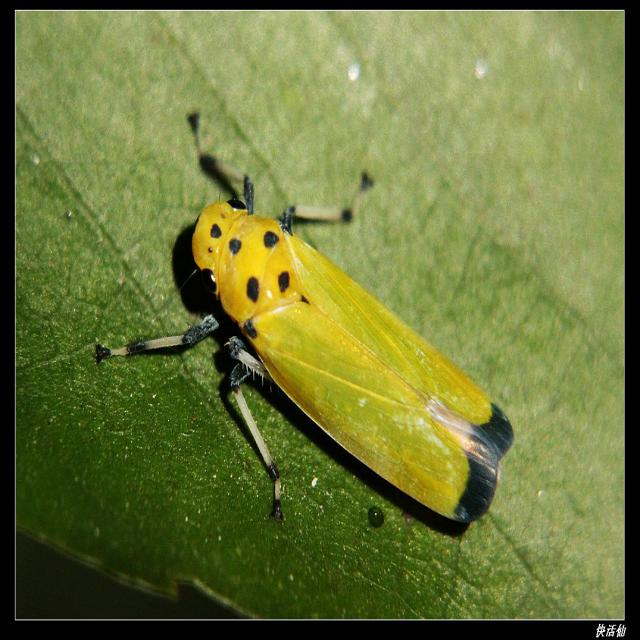Yechan: (93, 108, 518, 535)
